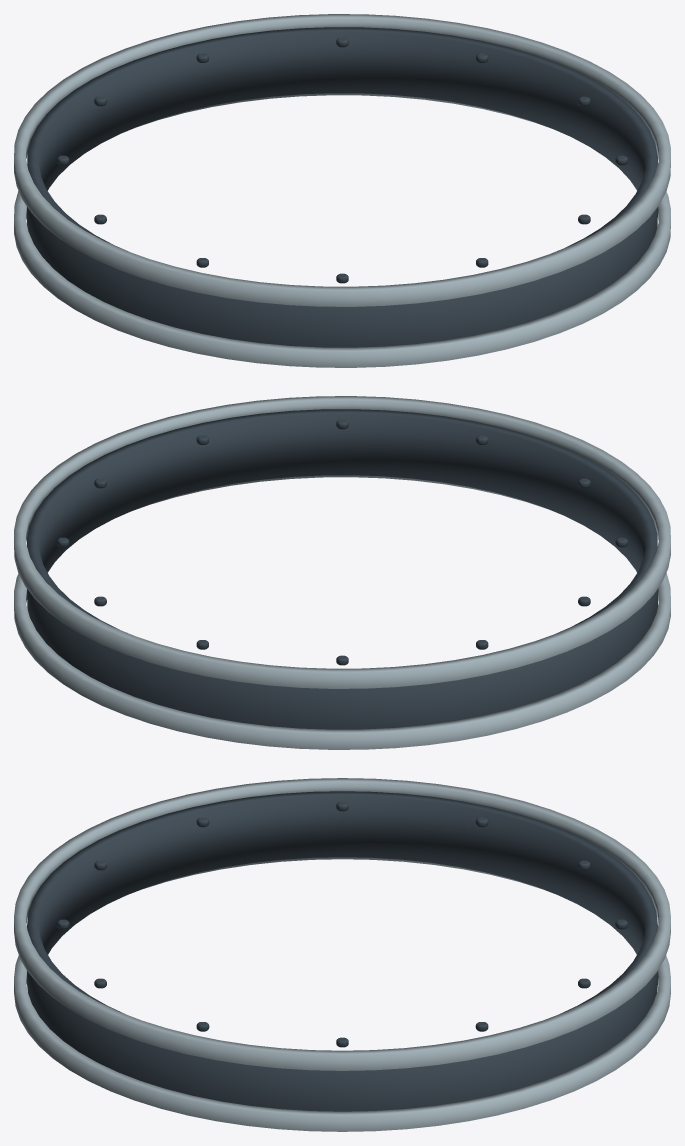
The model's file is decouplerLarge.glb.
3 views of the same model, one above another, from view 1: azimuth 30°, elevation 25°; view 2: azimuth 150°, elevation 25°; view 3: azimuth 270°, elevation 25° (orthographic).
Parts seen in each view (by area): view 1: Hollow separation collar; view 2: Hollow separation collar; view 3: Hollow separation collar.
Part boxes in pixels (x1,y1,x2,y2): Hollow separation collar: (14, 14, 670, 367); Hollow separation collar: (14, 396, 670, 749); Hollow separation collar: (14, 778, 670, 1131).
Size of the model in its own units: 2.5 by 0.32 by 2.5.
